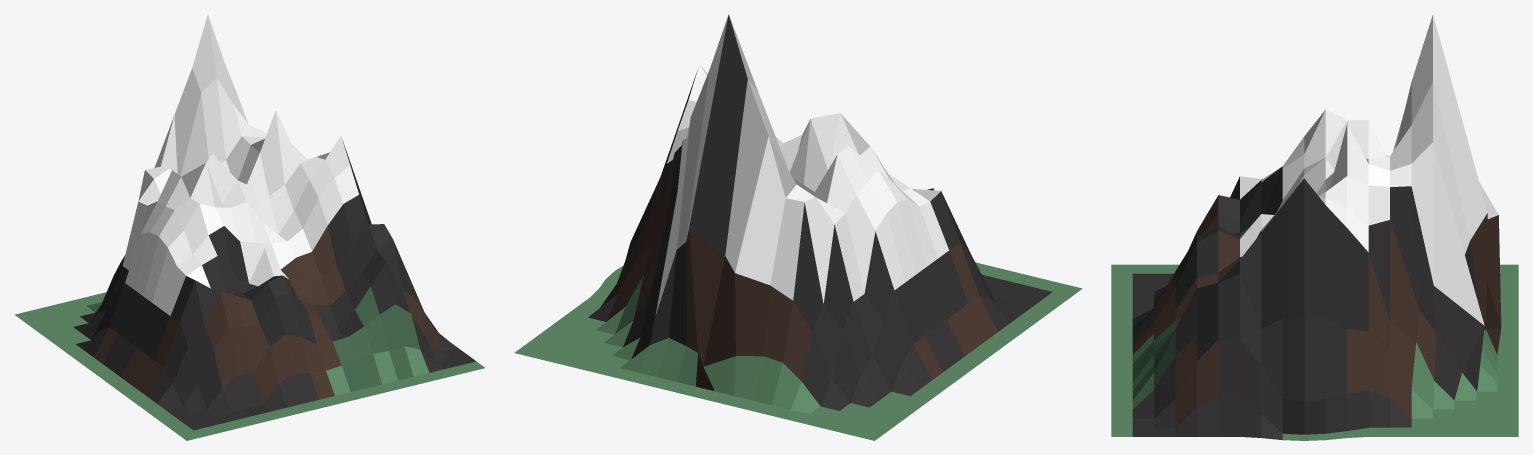
File: Mountain_05.fbx
3 renders of one model, left to right at view 1: azimuth 30°, elevation 25°; view 2: azimuth 150°, elevation 25°; view 3: azimuth 270°, elevation 25°, orthographic. The views are drawn at different scales.
Visible parts, largest first — view 1: Mountain_05; view 2: Mountain_05; view 3: Mountain_05.
Boxes of the visible parts, left/top/right/bottom form: Mountain_05: left=14, top=14, right=484, bottom=440; Mountain_05: left=514, top=14, right=1082, bottom=440; Mountain_05: left=1111, top=15, right=1518, bottom=440.
Bounding box in the file's own units: 9271 × 8372 × 9055.
